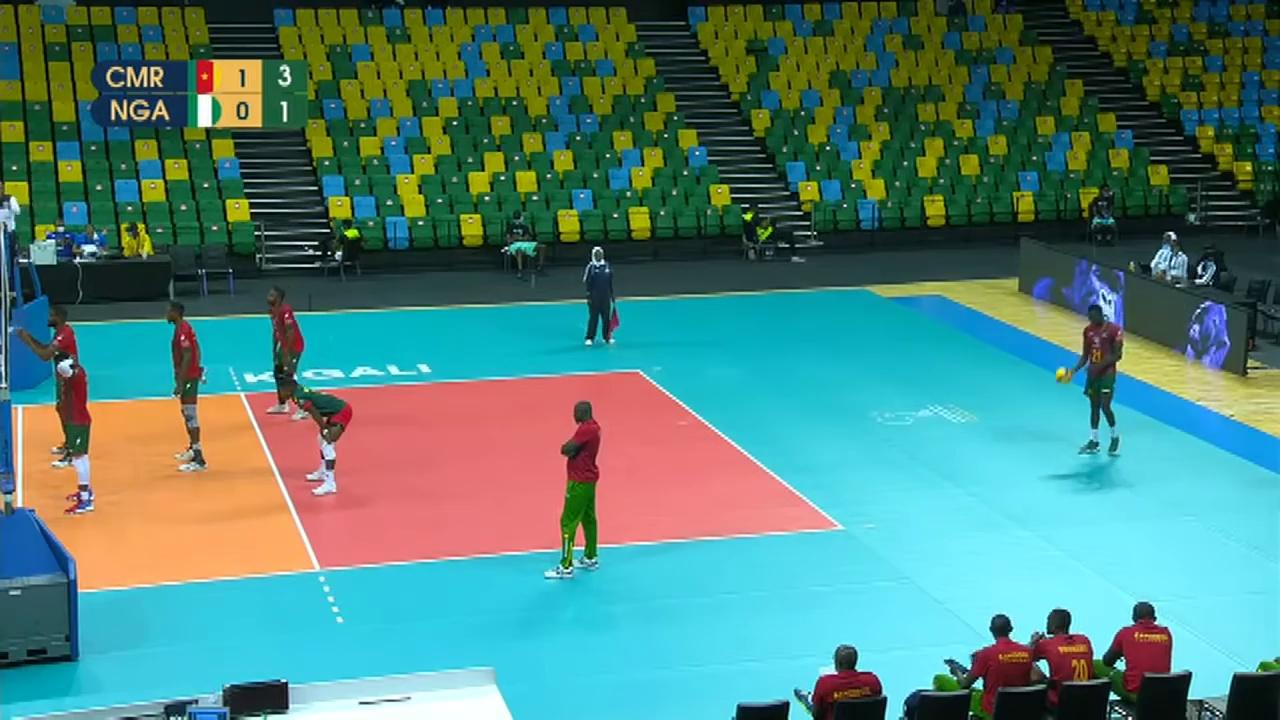player: (19, 296, 87, 466), (281, 379, 361, 503), (1064, 306, 1127, 455), (54, 351, 103, 516), (163, 304, 206, 469), (269, 288, 306, 410)
refree: (581, 245, 616, 345)
